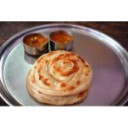parota: (36, 51, 92, 93)
